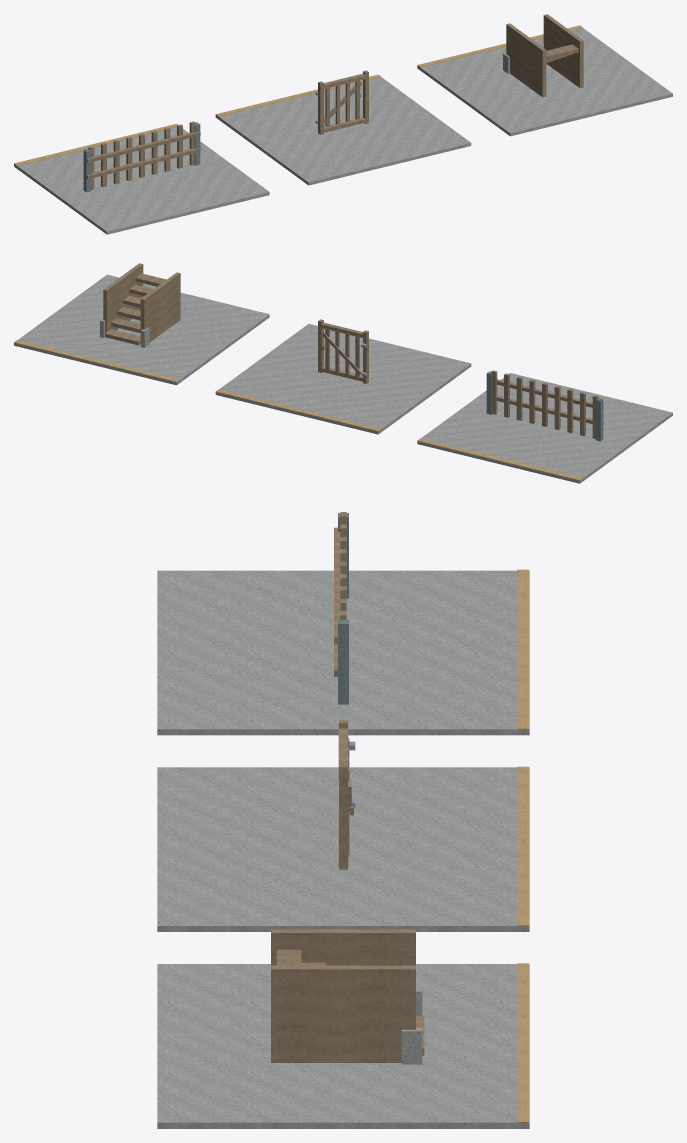
The model's file is level_blockout_kit_house_p04.glb.
The picture shows the model from 3 angles, top to bottom: view 1: azimuth 30°, elevation 25°; view 2: azimuth 150°, elevation 25°; view 3: azimuth 270°, elevation 25°; orthographic projection. The views are drawn at different scales.
Parts seen in each view (by area): view 1: level_blockout_kit_house_p04; view 2: level_blockout_kit_house_p04; view 3: level_blockout_kit_house_p04.
Part boxes in pixels (x1,y1,x2,y2): level_blockout_kit_house_p04: (14,14,672,234); level_blockout_kit_house_p04: (14,263,672,483); level_blockout_kit_house_p04: (157,512,529,1128).
Bounding box in the file's own units: 19.65 × 1.81 × 5.6.
6 materials, 6 textured.
